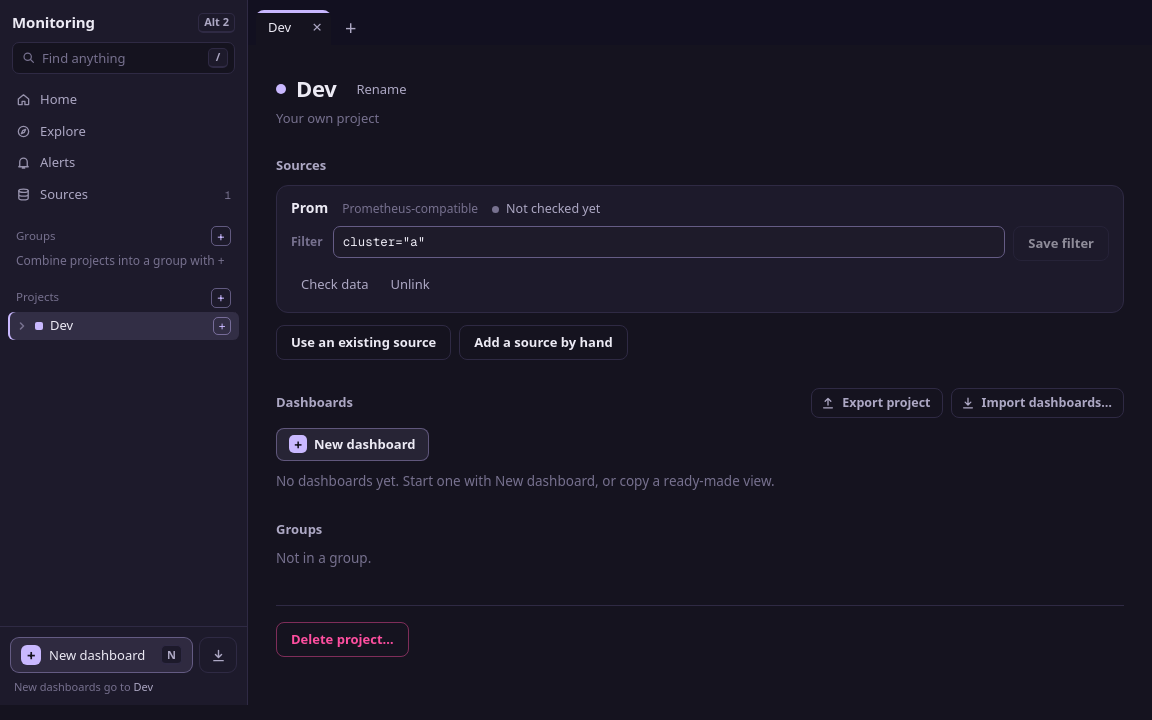
Test: Project page › editing a link filter saves it as the user's
This screenshot has width=1152, height=720.
Replace the text in the field named "Filter for Prom" with "cluster=\"b\"" at (669, 242), box 333,226 -> 1005,258
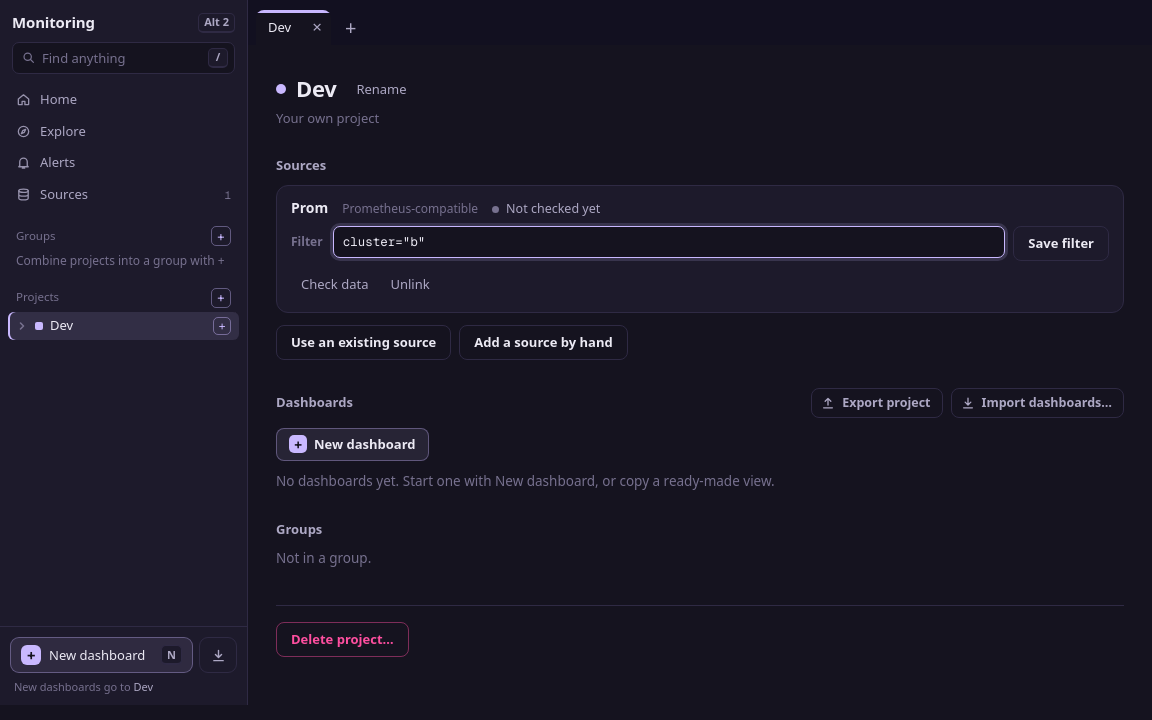
Click the button "Save filter" at (1061, 244), box 1013,226 -> 1109,261
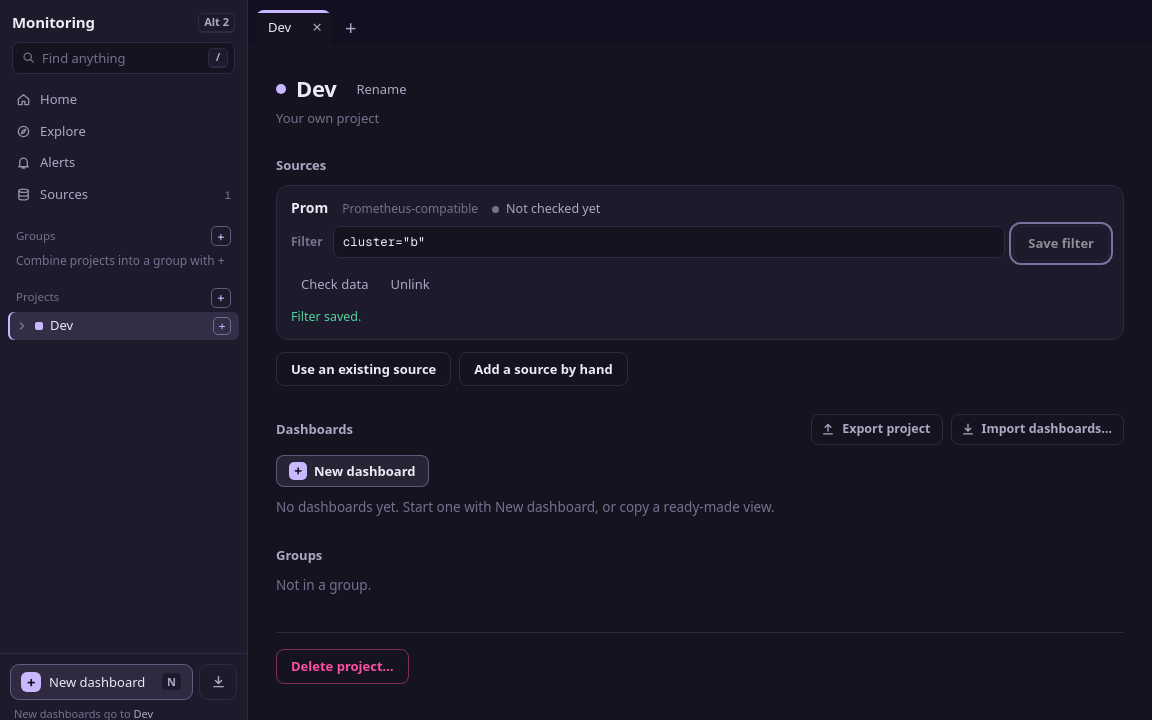
Check: the text "Filter saved." is shown, box 291,308 -> 361,325
